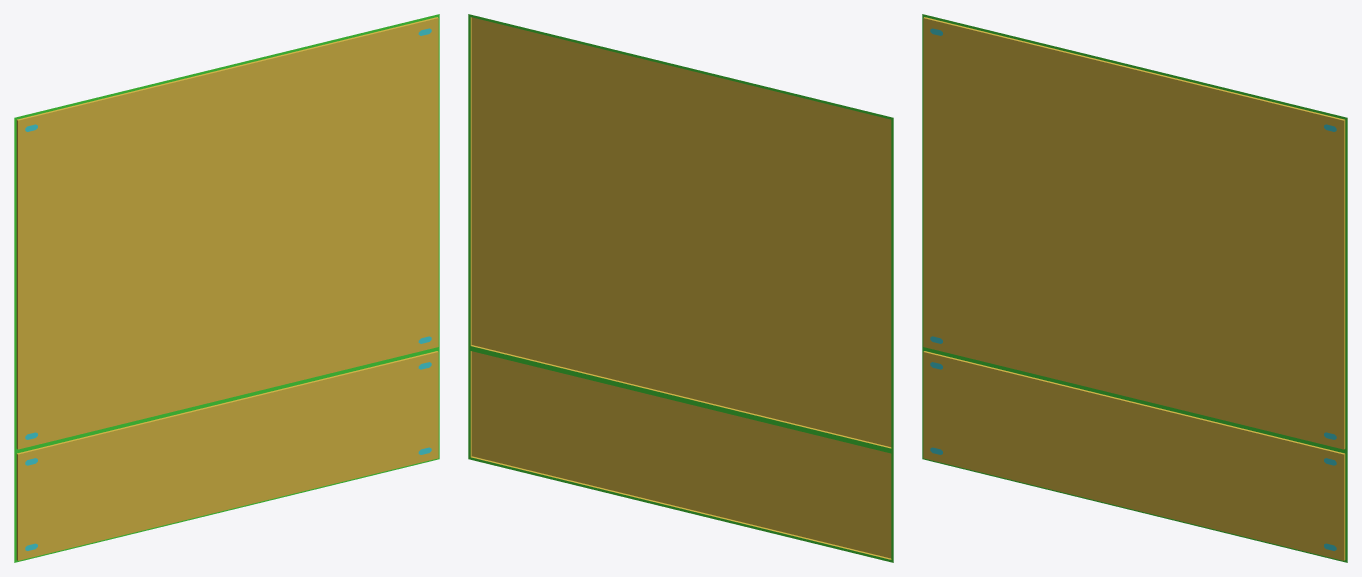
Rendered from Wall_49_A.fbx.
3 views of the same model, side by side, from view 1: azimuth 30°, elevation 25°; view 2: azimuth 150°, elevation 25°; view 3: azimuth 330°, elevation 25° (orthographic).
Visible parts, largest first — view 1: Wall_49_A; view 2: Wall_49_A; view 3: Wall_49_A.
Boxes of the visible parts, x1,y1,x2,y2 form: Wall_49_A: (14,14,439,562); Wall_49_A: (468,14,893,562); Wall_49_A: (922,14,1347,562).
Size of the model in its own units: 457 by 457 by 2.72.
